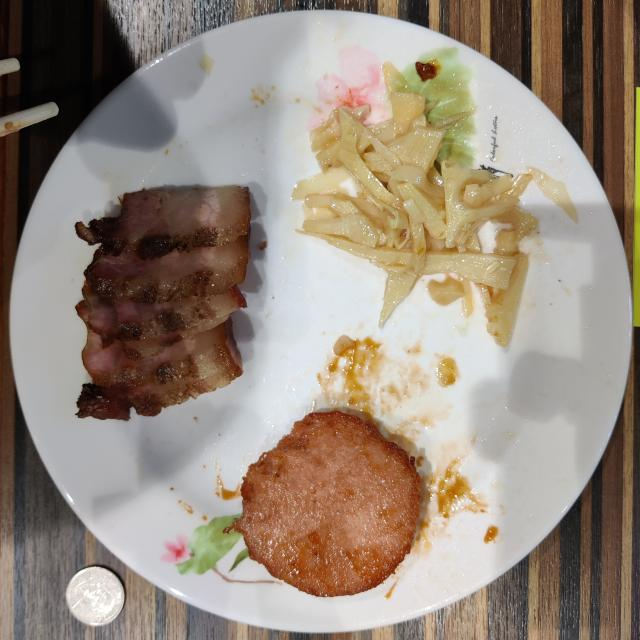Spam: (231, 410, 421, 596)
coin: (66, 566, 125, 626)
red grilled pork: (75, 186, 250, 420)
